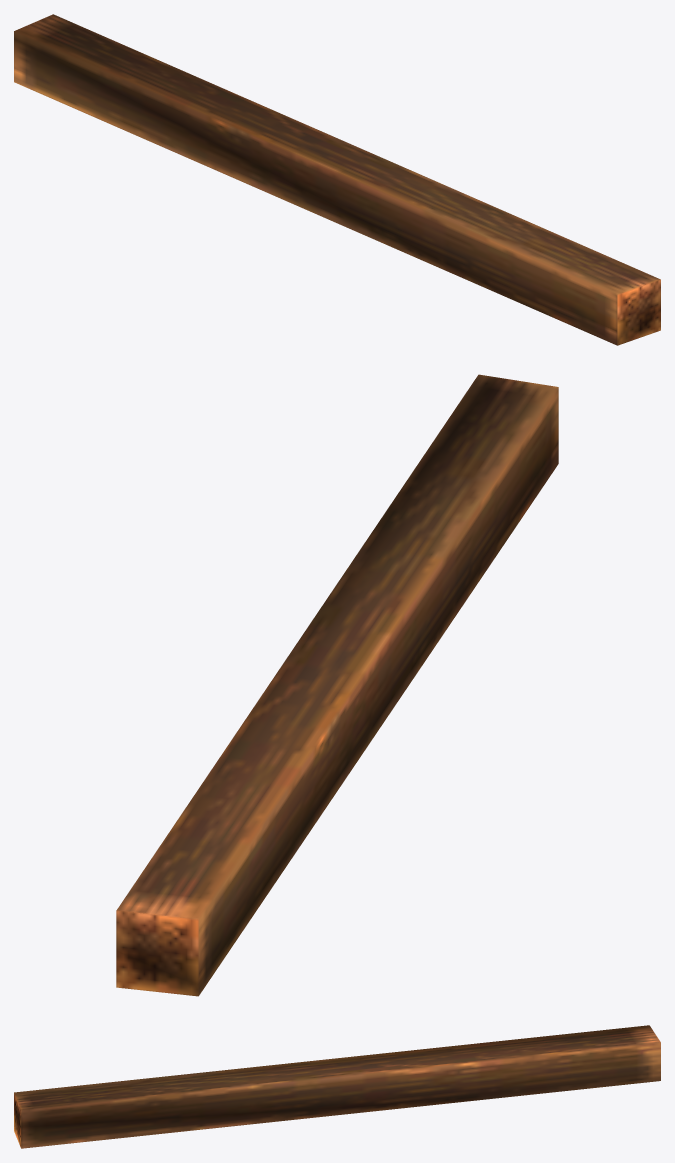
The model's file is SWORDLIGHT20_JAILBRACE120.fbx.
3 views of the same model, one above another, from view 1: azimuth 30°, elevation 25°; view 2: azimuth 150°, elevation 25°; view 3: azimuth 270°, elevation 25° (orthographic). The views are drawn at different scales.
Visible parts, largest first — view 1: SWORDLIGHT20_JAILBRACE120; view 2: SWORDLIGHT20_JAILBRACE120; view 3: SWORDLIGHT20_JAILBRACE120.
Part boxes in pixels (<box>): SWORDLIGHT20_JAILBRACE120: <box>14,14,660,345</box>; SWORDLIGHT20_JAILBRACE120: <box>116,374,558,996</box>; SWORDLIGHT20_JAILBRACE120: <box>14,1025,660,1148</box>.
Size of the model in its own units: 18955 by 4000 by 60945.
1 material, 1 textured.
